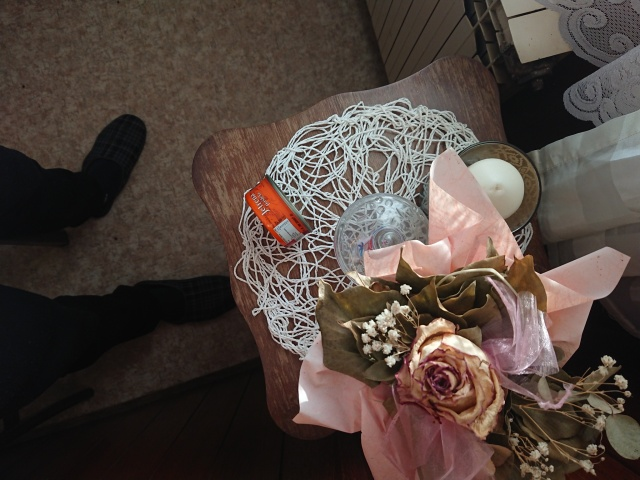Gavrilovic Pork Liver Pate 100g: (242, 172, 314, 248)
